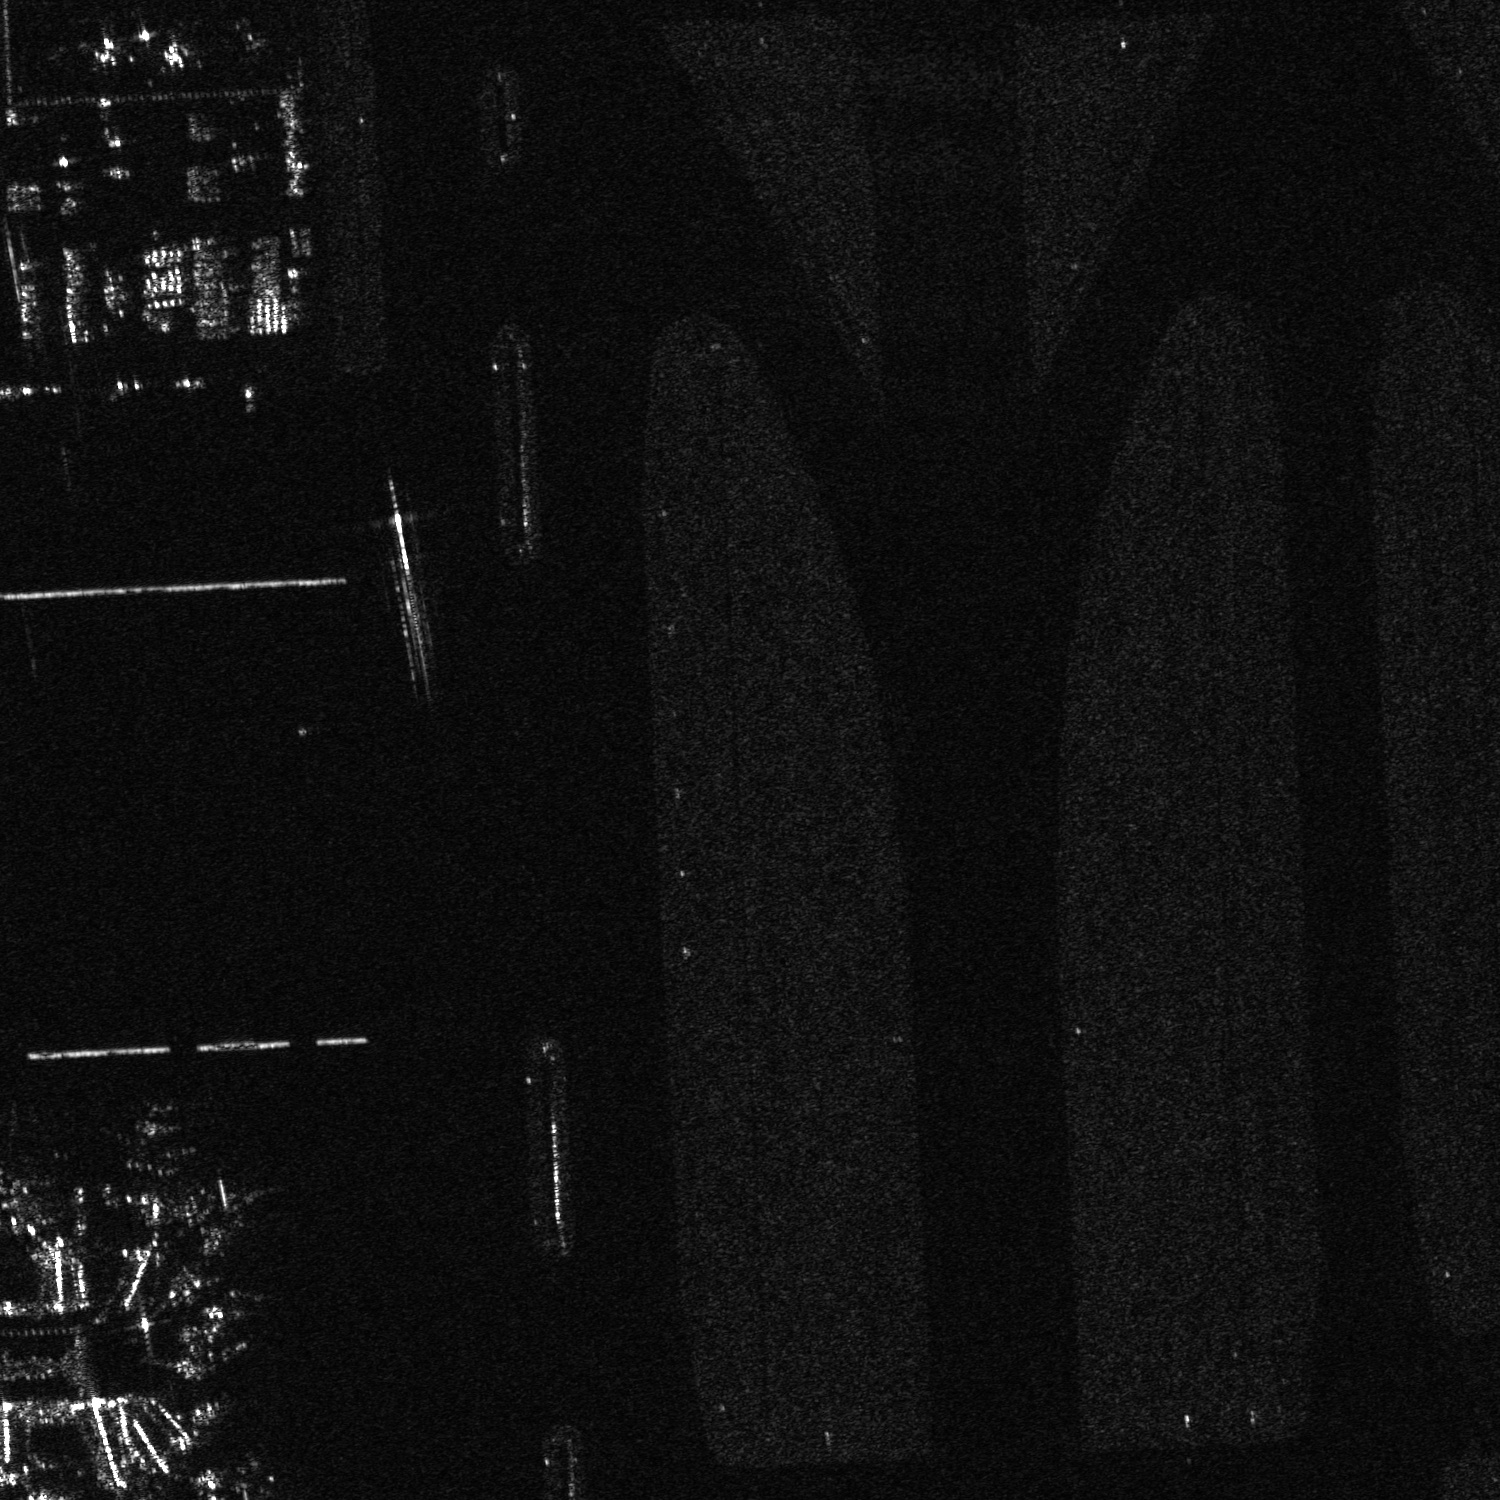A320/321: (117, 1114, 195, 1181)
